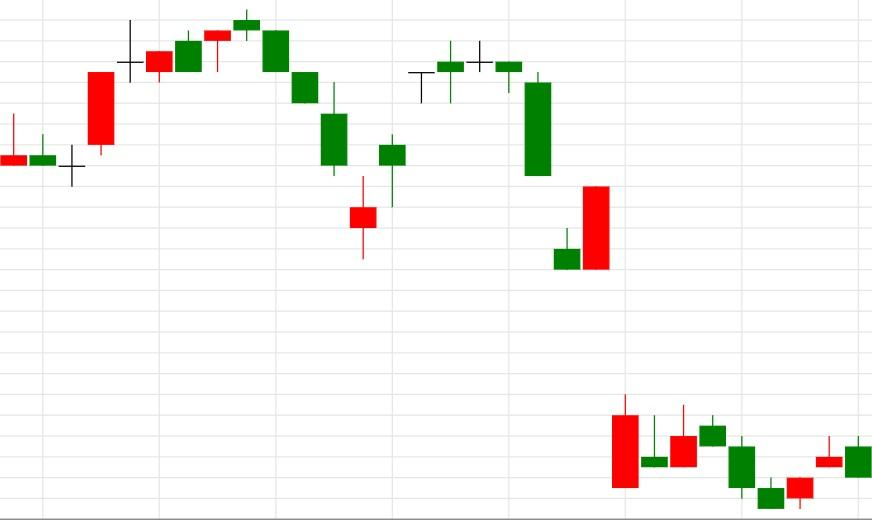three_black_crows_fall: (58, 8, 320, 187), (610, 393, 785, 509)
